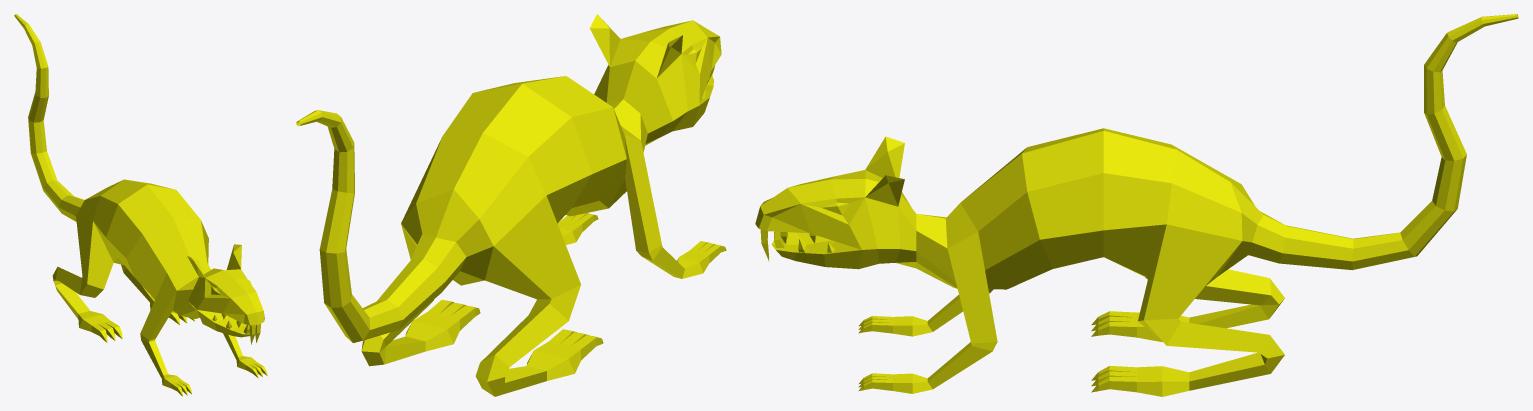
File: m_enemy.fbx
3 renders of one model, left to right at view 1: azimuth 30°, elevation 25°; view 2: azimuth 150°, elevation 25°; view 3: azimuth 270°, elevation 25°, orthographic. The views are drawn at different scales.
Parts seen in each view (by area): view 1: sm_enemy; view 2: sm_enemy; view 3: sm_enemy.
Part boxes in pixels (x1=…): sm_enemy: x1=14, y1=14, x2=267, y2=396; sm_enemy: x1=296, y1=14, x2=726, y2=396; sm_enemy: x1=755, y1=14, x2=1518, y2=396.
Size of the model in its own units: 82.94 by 175 by 351.
